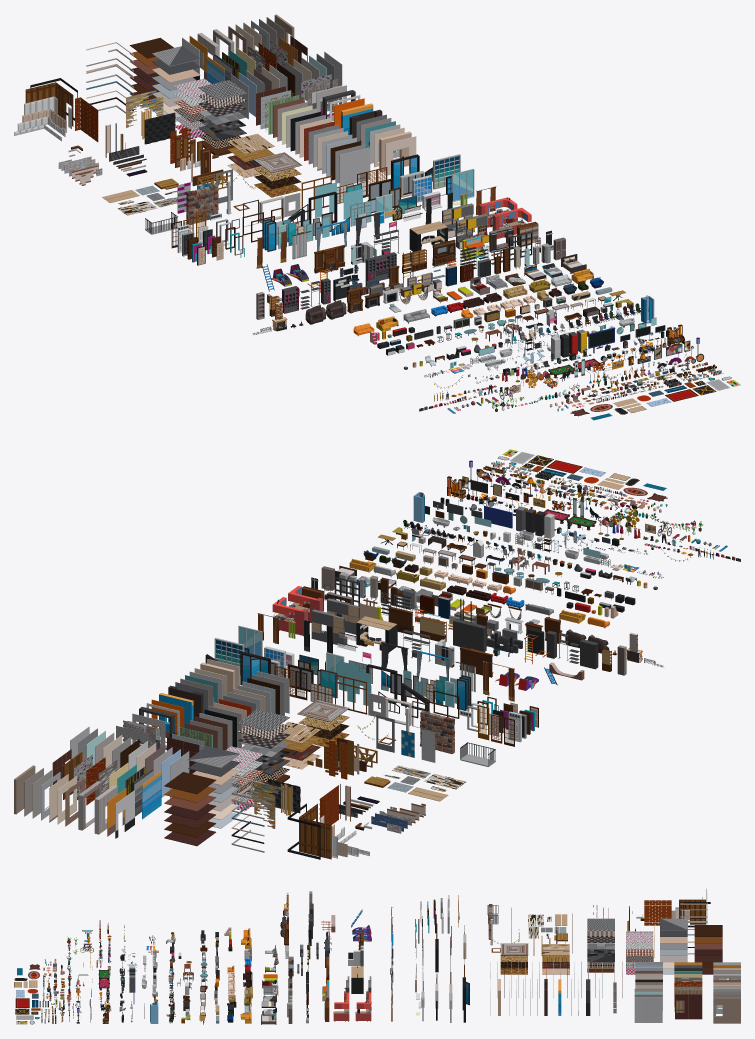
File: SM_LowPoly1000+Objects.fbx
3 views of the same model, one above another, from view 1: azimuth 30°, elevation 25°; view 2: azimuth 150°, elevation 25°; view 3: azimuth 270°, elevation 25° (orthographic). The views are drawn at different scales.
Visible parts, largest first — view 1: SM_WallStones_01, SM_WallBack_01, SM_WallPanelsCornerBrownClassic_01, SM_BricCornerBrown_01, SM_SoundproofingRombBlack_01, SM_ComputerTableTwoFloorsSet_01, SM_KitchenYellowSet_01, SM_SetFireplaceBookshelfBrown_01, SM_DrawersShelfBlackPinkSet_01, SM_WindowEarlSet_01, SM_KitchenSetSalmon_01; view 2: SM_WallPanelsCornerBrownClassic_01, SM_WallStones_01, SM_KitchenYellowSet_02, SM_ComputerTableTwoFloorsSet_01, SM_DrawersShelfBlackPinkSet_01, SM_KitchenSetSalmon_02, SM_WallStripesOrangeBlue_01, SM_SetFireplaceBookshelfBrown_01, SM_WindowMiddleBlack_02, SM_KitchenYellowSet_01, SM_FloorBedroomWhiteBrown_01, SM_FloorDiagonalStripesGrey_01 (+3 smaller); view 3: SM_WallRightWhite_03, SM_WalRightLightBrown_01, SM_BricCornerBrown_01, SM_WallRightKitchenBtown_02, SM_WallPanelsCornerBrownClassic_01, SM_FloorBedroomWhiteBrown_01, SM_FloorTilesBlackWhite_01, SM_FloorDiagonalStripesGrey_01, SM_ComputerTableTwoFloorsSet_01, SM_KitchenSetSalmon_02, SM_KitchenSetSalmon_01, SM_FloorBrown_01 (+3 smaller).
Part boxes in pixels (left/top/right/bottom): SM_WallStones_01: left=186, top=184, right=218, bottom=224; SM_WallBack_01: left=339, top=147, right=370, bottom=186; SM_WallPanelsCornerBrownClassic_01: left=25, top=82, right=73, bottom=126; SM_BricCornerBrown_01: left=75, top=97, right=98, bottom=141; SM_SoundproofingRombBlack_01: left=144, top=112, right=175, bottom=144; SM_ComputerTableTwoFloorsSet_01: left=409, top=221, right=447, bottom=251; SM_KitchenYellowSet_01: left=456, top=213, right=489, bottom=249; SM_SetFireplaceBookshelfBrown_01: left=314, top=245, right=345, bottom=273; SM_DrawersShelfBlackPinkSet_01: left=365, top=252, right=396, bottom=281; SM_WindowEarlSet_01: left=433, top=154, right=460, bottom=189; SM_KitchenSetSalmon_01: left=492, top=207, right=531, bottom=238; SM_WallPanelsCornerBrownClassic_01: left=299, top=803, right=331, bottom=859; SM_WallStones_01: left=420, top=710, right=454, bottom=753; SM_KitchenYellowSet_02: left=311, top=609, right=347, bottom=646; SM_ComputerTableTwoFloorsSet_01: left=356, top=616, right=397, bottom=652; SM_DrawersShelfBlackPinkSet_01: left=453, top=619, right=486, bottom=651; SM_KitchenSetSalmon_02: left=272, top=597, right=307, bottom=636; SM_WallStripesOrangeBlue_01: left=142, top=770, right=161, bottom=819; SM_SetFireplaceBookshelfBrown_01: left=459, top=647, right=493, bottom=677; SM_WindowMiddleBlack_02: left=240, top=651, right=270, bottom=685; SM_KitchenYellowSet_01: left=327, top=598, right=359, bottom=634; SM_FloorBedroomWhiteBrown_01: left=297, top=700, right=349, bottom=722; SM_FloorDiagonalStripesGrey_01: left=188, top=746, right=239, bottom=768; SM_WallRightWhite_03: left=634, top=997, right=662, bottom=1022; SM_WalRightLightBrown_01: left=713, top=997, right=740, bottom=1023; SM_BricCornerBrown_01: left=644, top=900, right=671, bottom=925; SM_WallRightKitchenBtown_02: left=675, top=994, right=702, bottom=1019; SM_WallPanelsCornerBrownClassic_01: left=679, top=889, right=706, bottom=924; SM_FloorBedroomWhiteBrown_01: left=500, top=943, right=528, bottom=955; SM_FloorTilesBlackWhite_01: left=587, top=918, right=614, bottom=930; SM_FloorDiagonalStripesGrey_01: left=660, top=918, right=687, bottom=930; SM_ComputerTableTwoFloorsSet_01: left=351, top=966, right=363, bottom=993; SM_KitchenSetSalmon_02: left=355, top=992, right=371, bottom=1021; SM_KitchenSetSalmon_01: left=333, top=992, right=349, bottom=1021; SM_FloorBrown_01: left=694, top=925, right=722, bottom=936.
Bounding box in the file's own units: 4138 × 10449 × 810.
